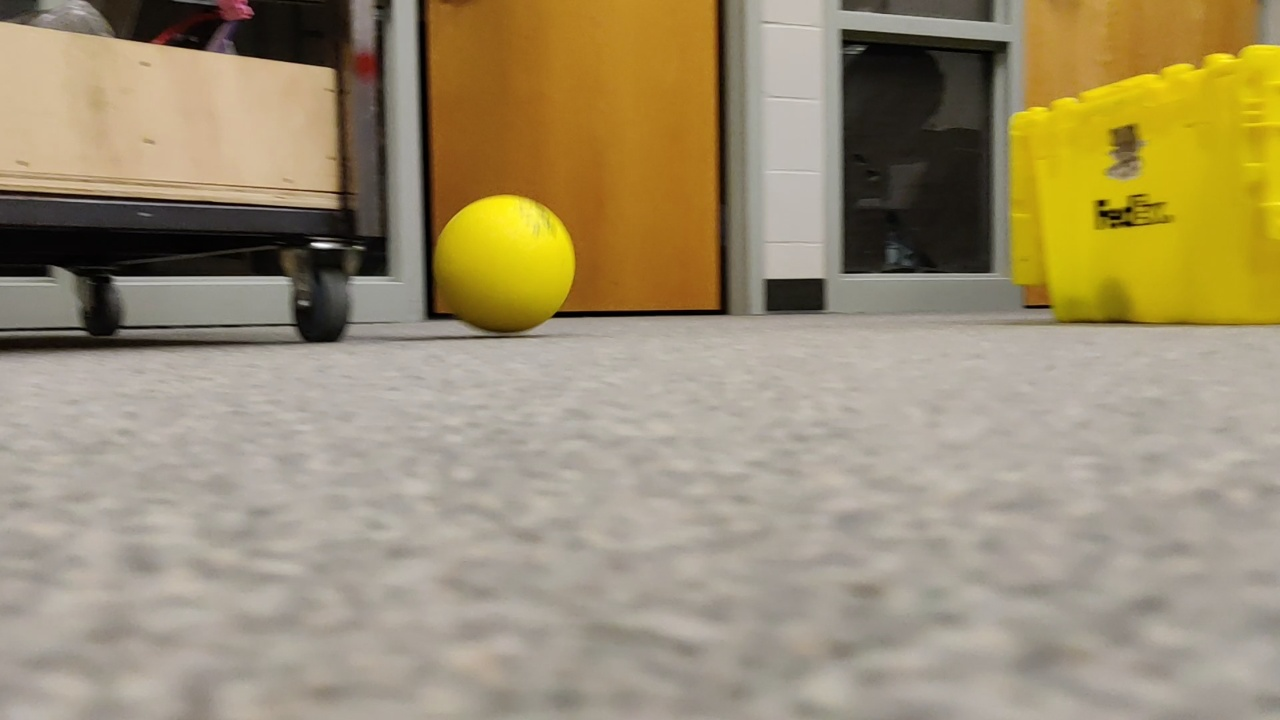Ball: (430, 195, 580, 337)
